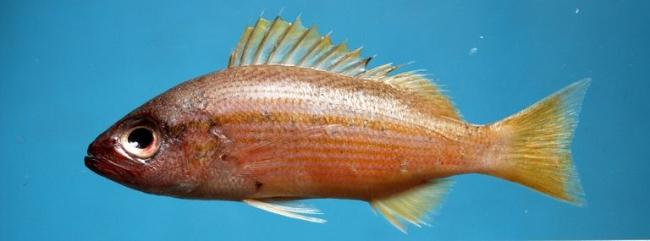fish: (84, 7, 590, 232)
